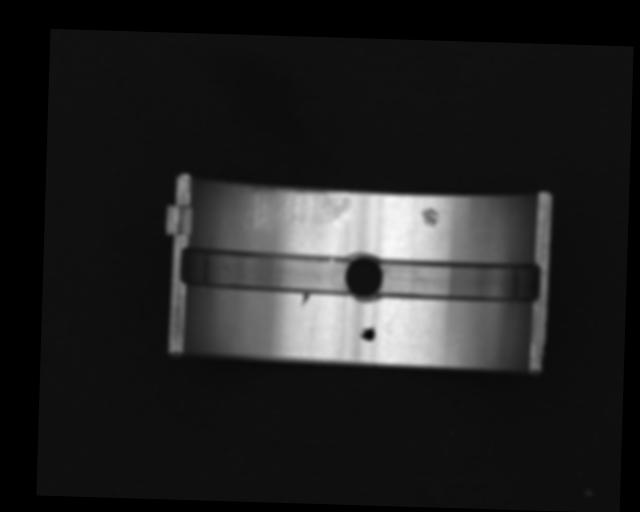blot: (359, 324, 376, 342)
bruise: (419, 206, 440, 229), (301, 292, 312, 306)
gap: (182, 245, 352, 295), (373, 257, 544, 304)
hole: (342, 251, 383, 302)
nick: (307, 312, 316, 349)
scratch: (243, 187, 352, 228)
